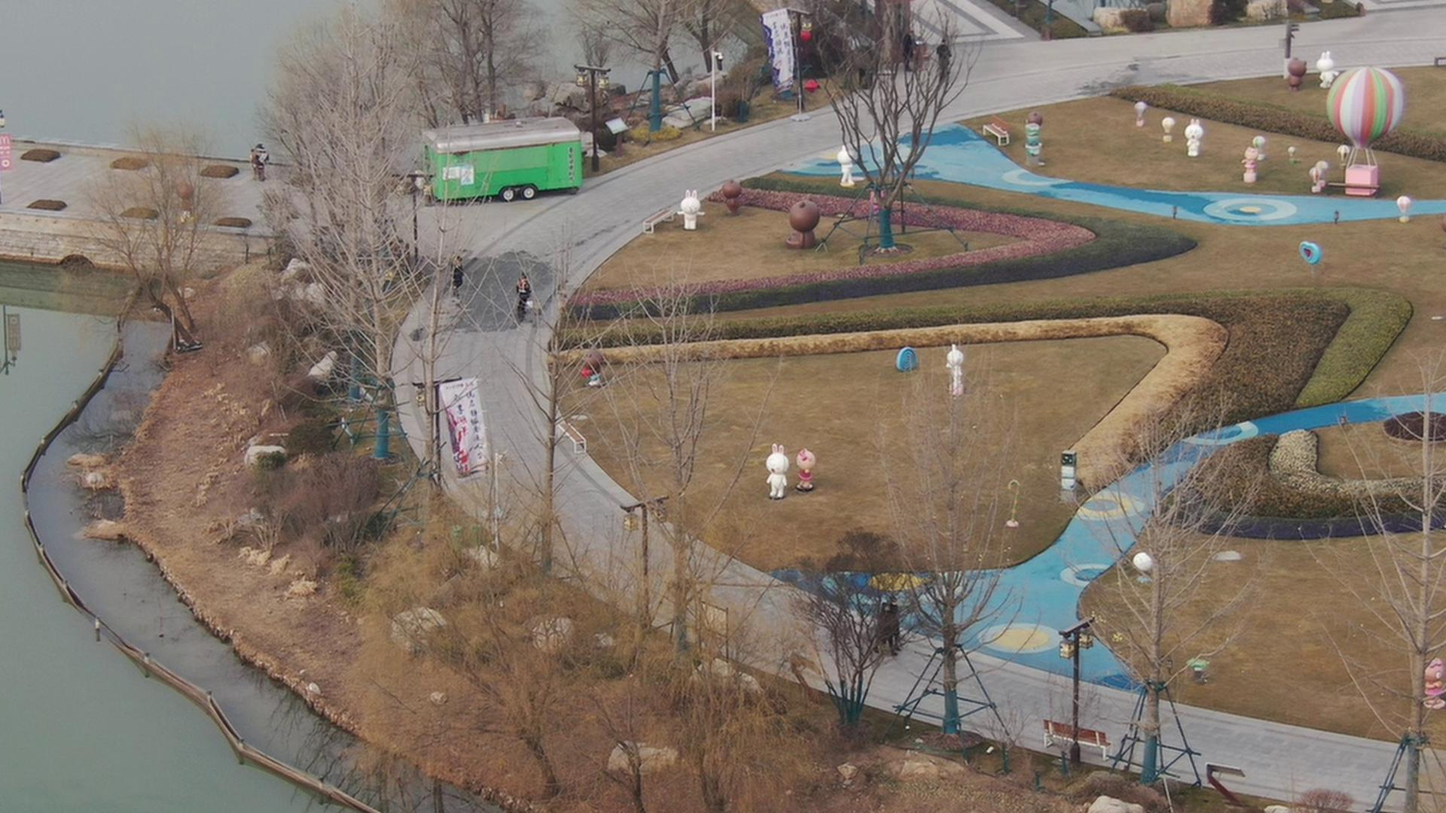class_2: (867, 592, 904, 666)
human: (930, 24, 955, 79), (511, 266, 532, 327), (446, 253, 466, 303)
